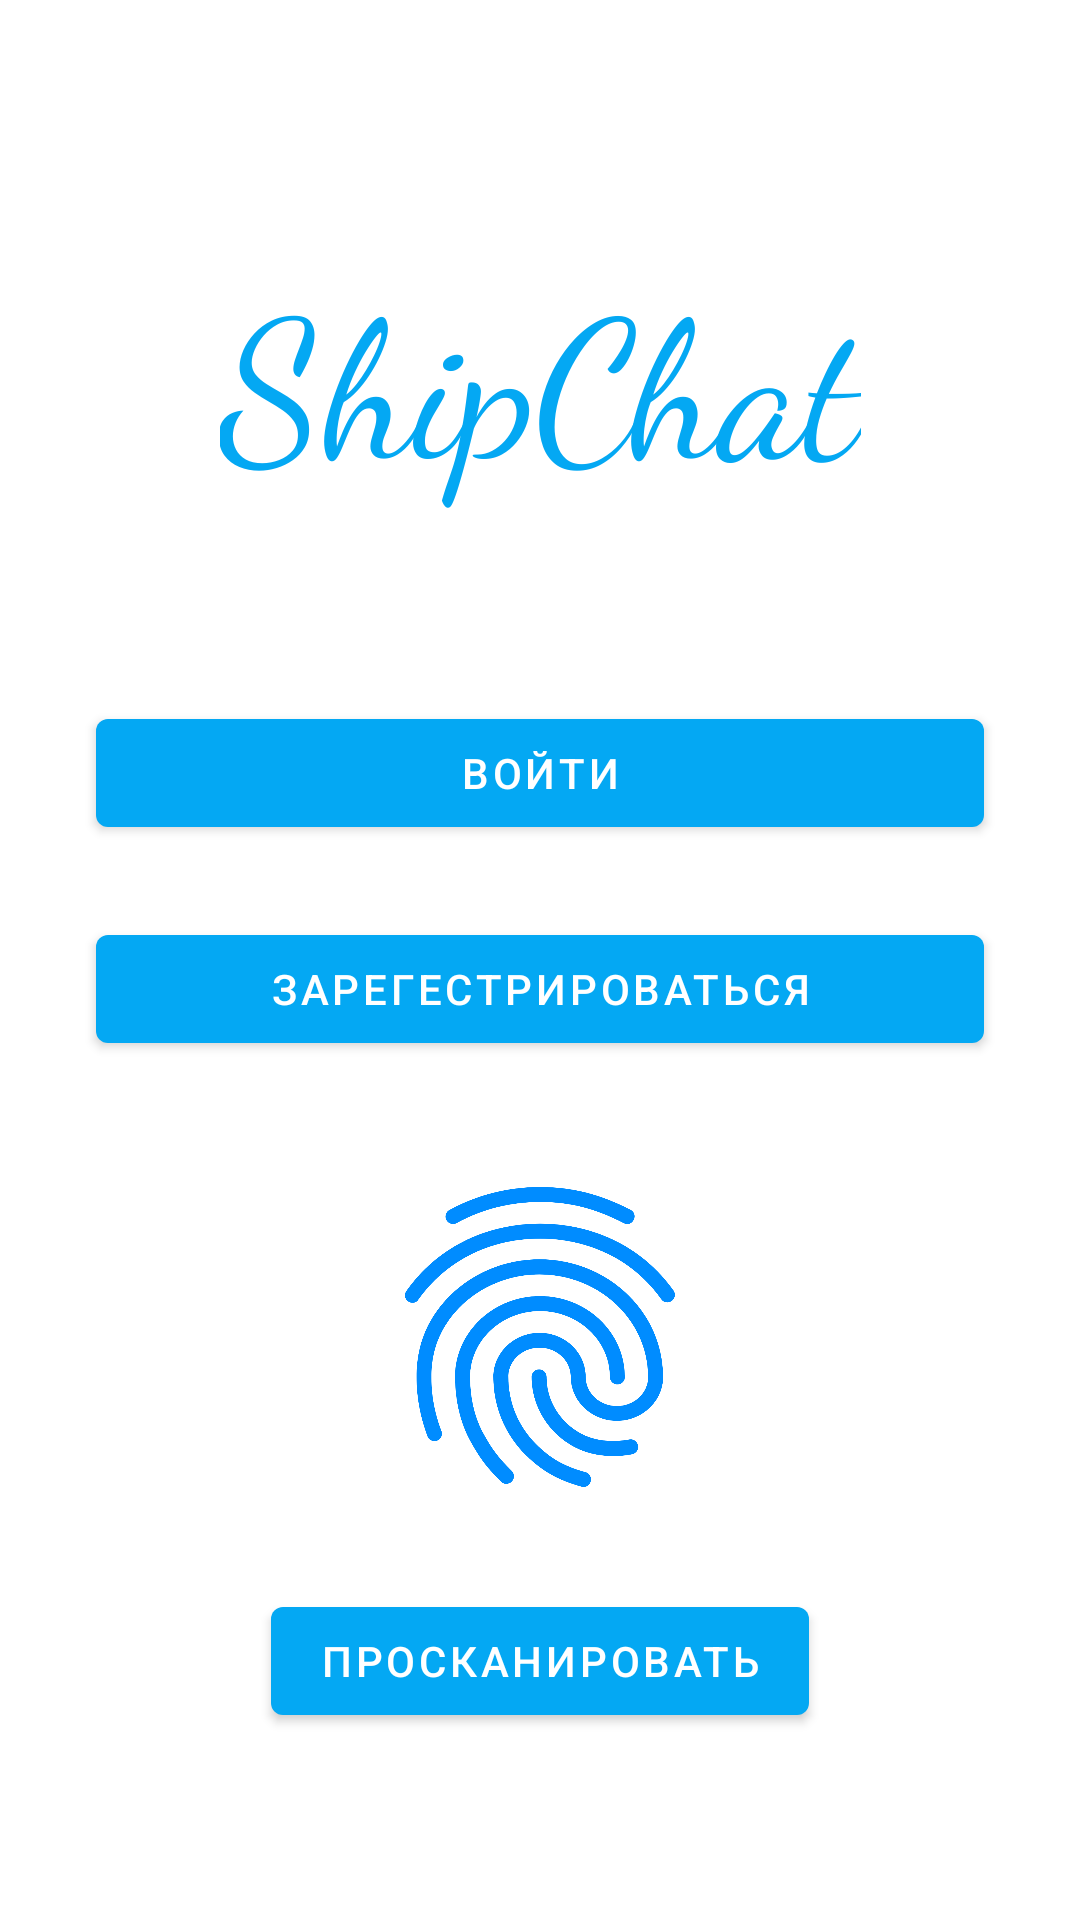

Icons on this 1080px×1920px Android screen, each with its box as (x1, y1, x2, y2):
fingerprint: (405, 1187, 675, 1487)
